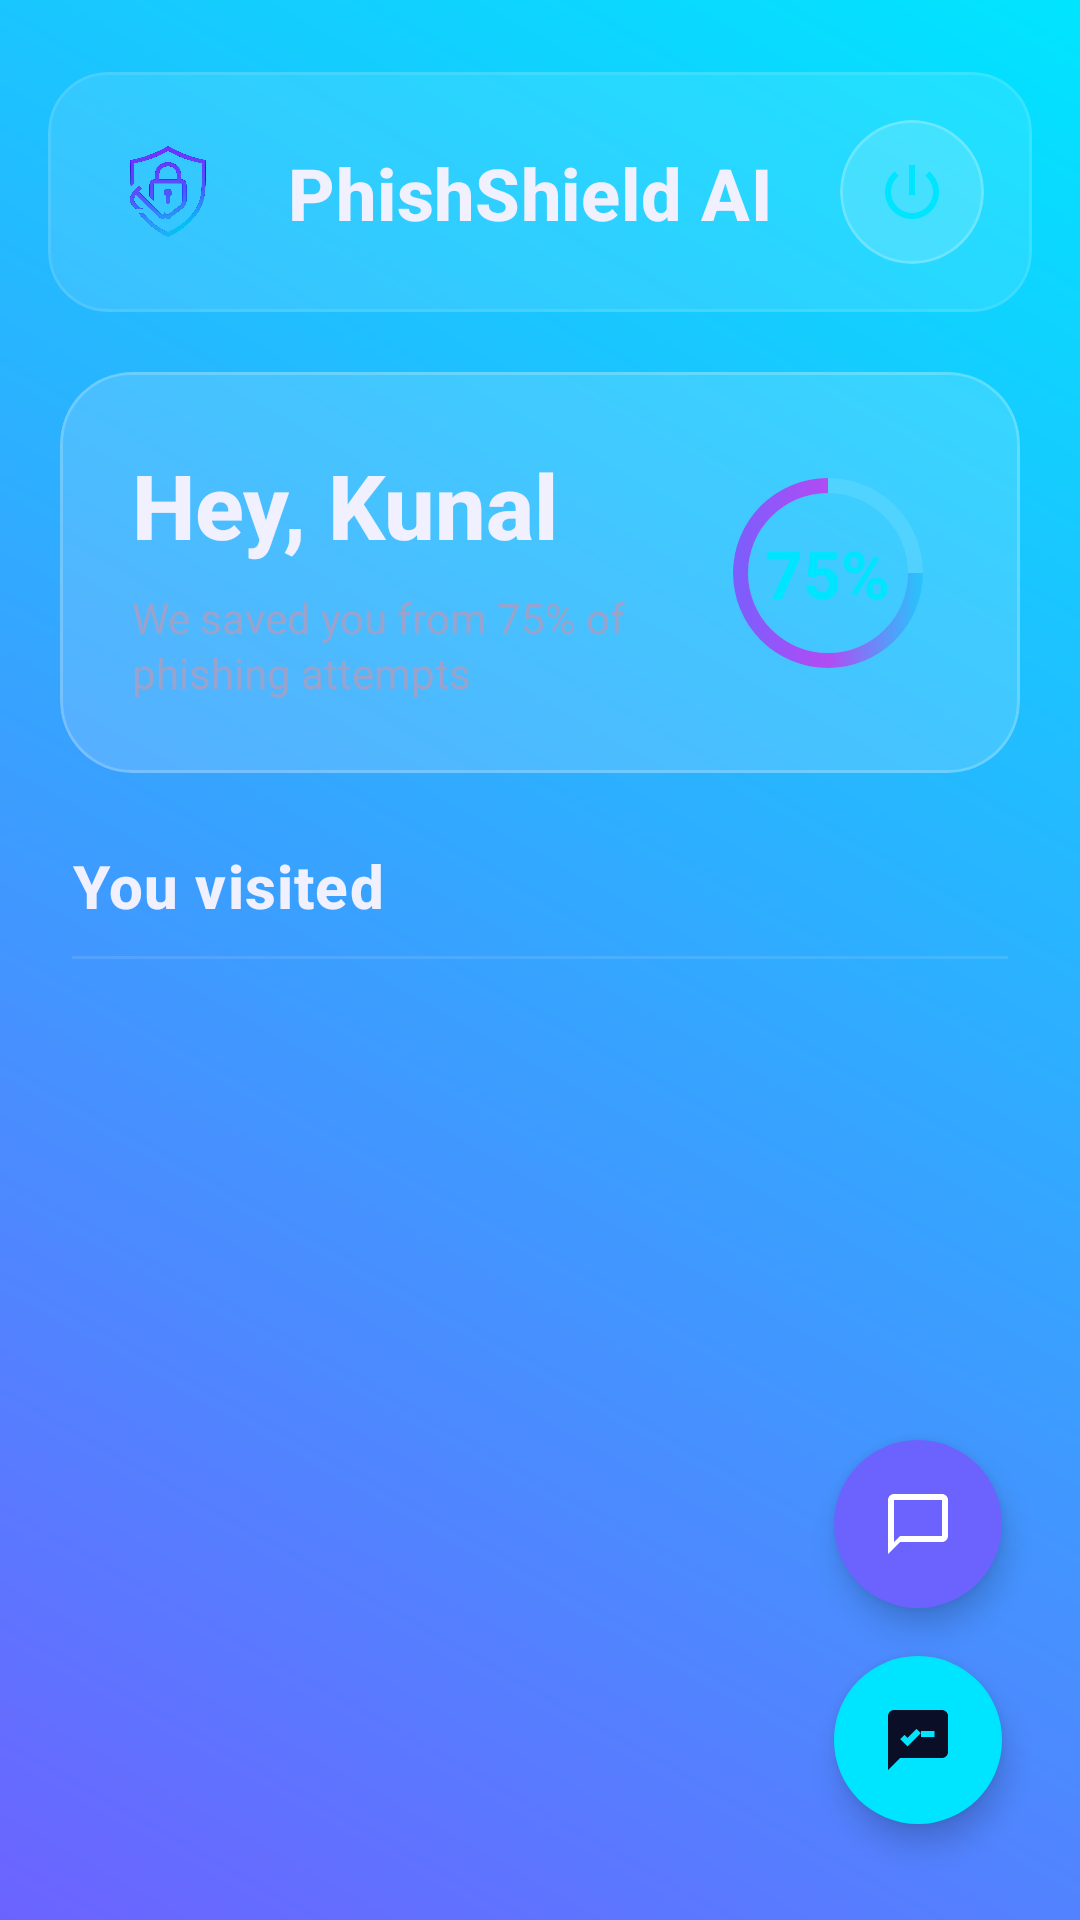

Named icons in this screenshot (1080 × 1920) and their centers, (x,y):
chatbot: (918,1524)
power: (912,192)
